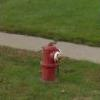Hydrant: (34, 30, 64, 87)
